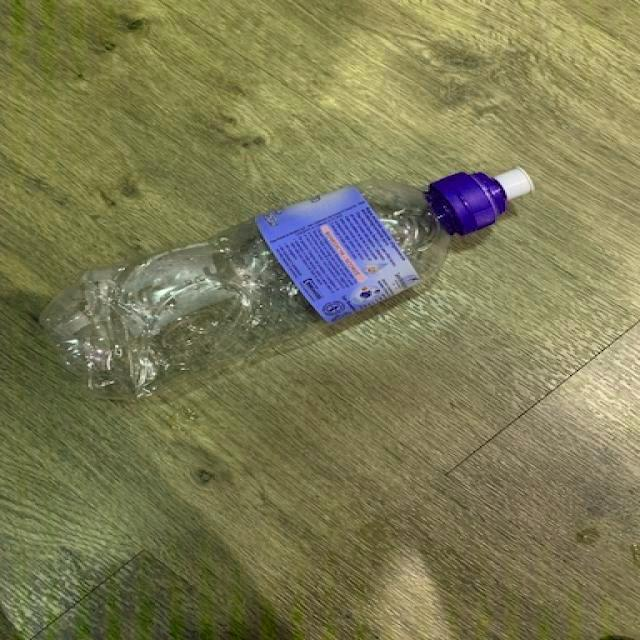bottle: (39, 166, 534, 402)
